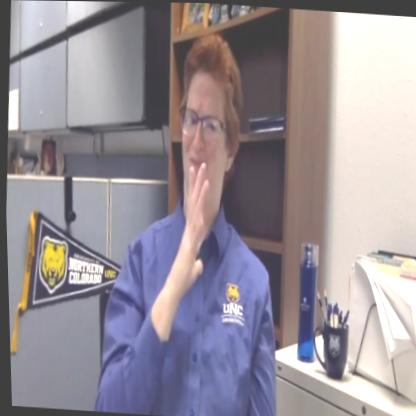Talk: (166, 18, 256, 297)
